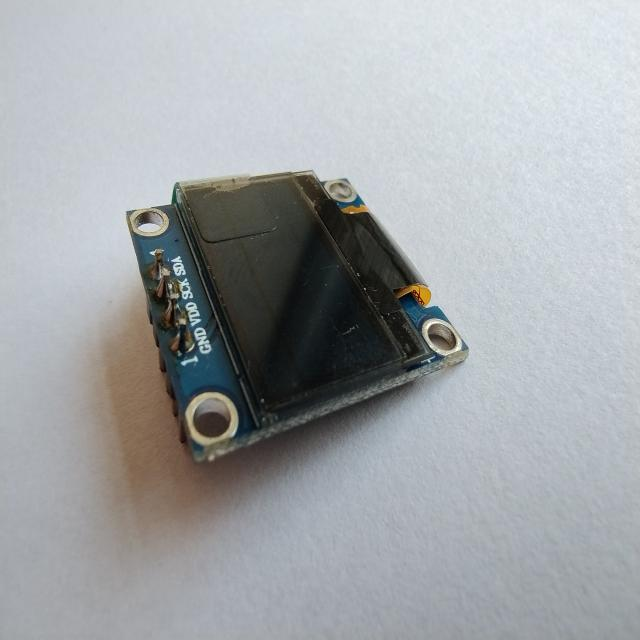oled: (108, 160, 478, 484)
